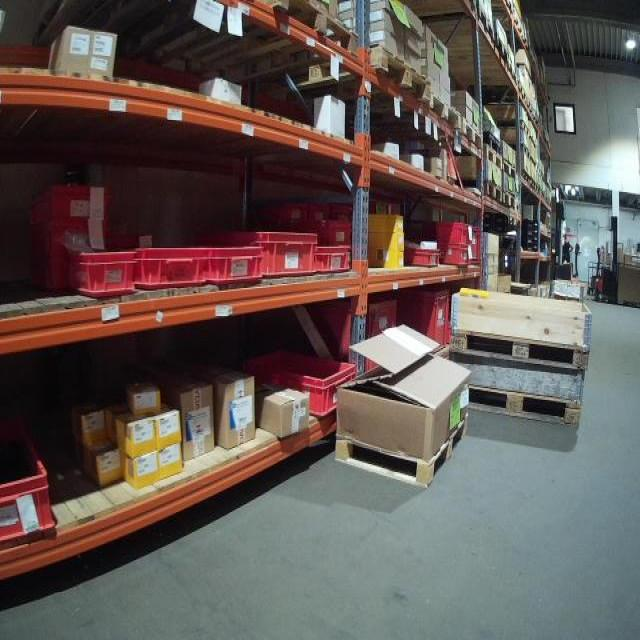pallet: (151, 1, 364, 81), (72, 0, 293, 73), (335, 408, 473, 491), (300, 41, 433, 109), (441, 380, 586, 434), (449, 326, 594, 368), (419, 88, 465, 134), (459, 1, 495, 40), (451, 181, 505, 206), (472, 145, 505, 173), (450, 123, 484, 150), (485, 128, 504, 154), (501, 159, 519, 180), (505, 197, 518, 210)
pallet_truck: (551, 200, 589, 282), (593, 210, 623, 300)
small_load_carrier: (23, 221, 120, 290), (325, 293, 408, 372), (245, 363, 357, 419), (1, 444, 54, 545), (225, 223, 318, 278), (132, 239, 207, 293), (23, 184, 120, 221), (66, 248, 133, 297), (197, 238, 262, 288), (402, 285, 449, 352), (311, 246, 354, 278), (424, 219, 473, 245), (270, 194, 318, 218), (314, 215, 355, 243), (467, 219, 485, 267), (440, 245, 473, 266), (402, 249, 439, 267)
